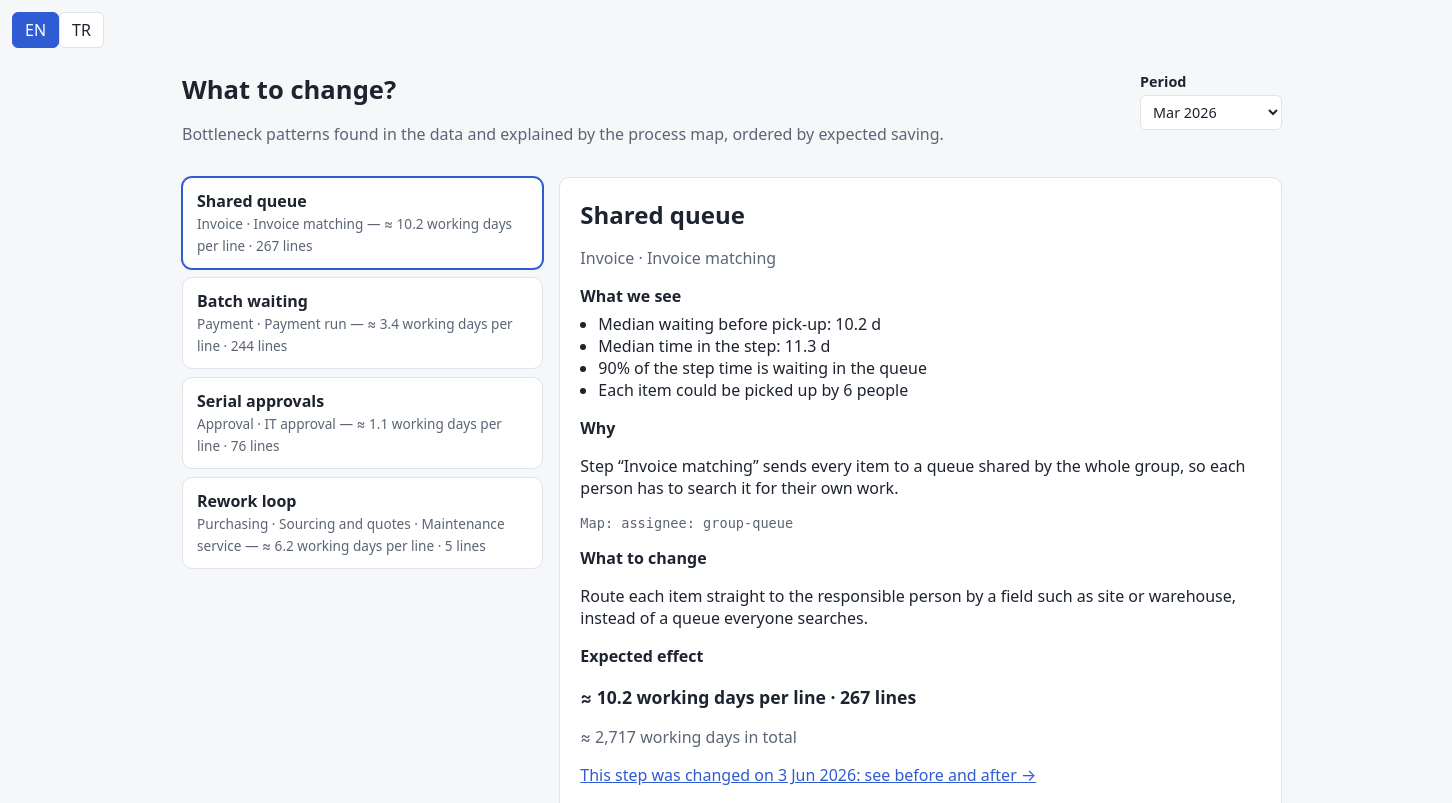
Test: ImprovementCards › switches to Turkish
This screenshot has width=1452, height=803.
Check: the heading "What we see" is shown, box [580,285,681,307]
Click the button "TR" at [82, 30], box [59,12,104,48]
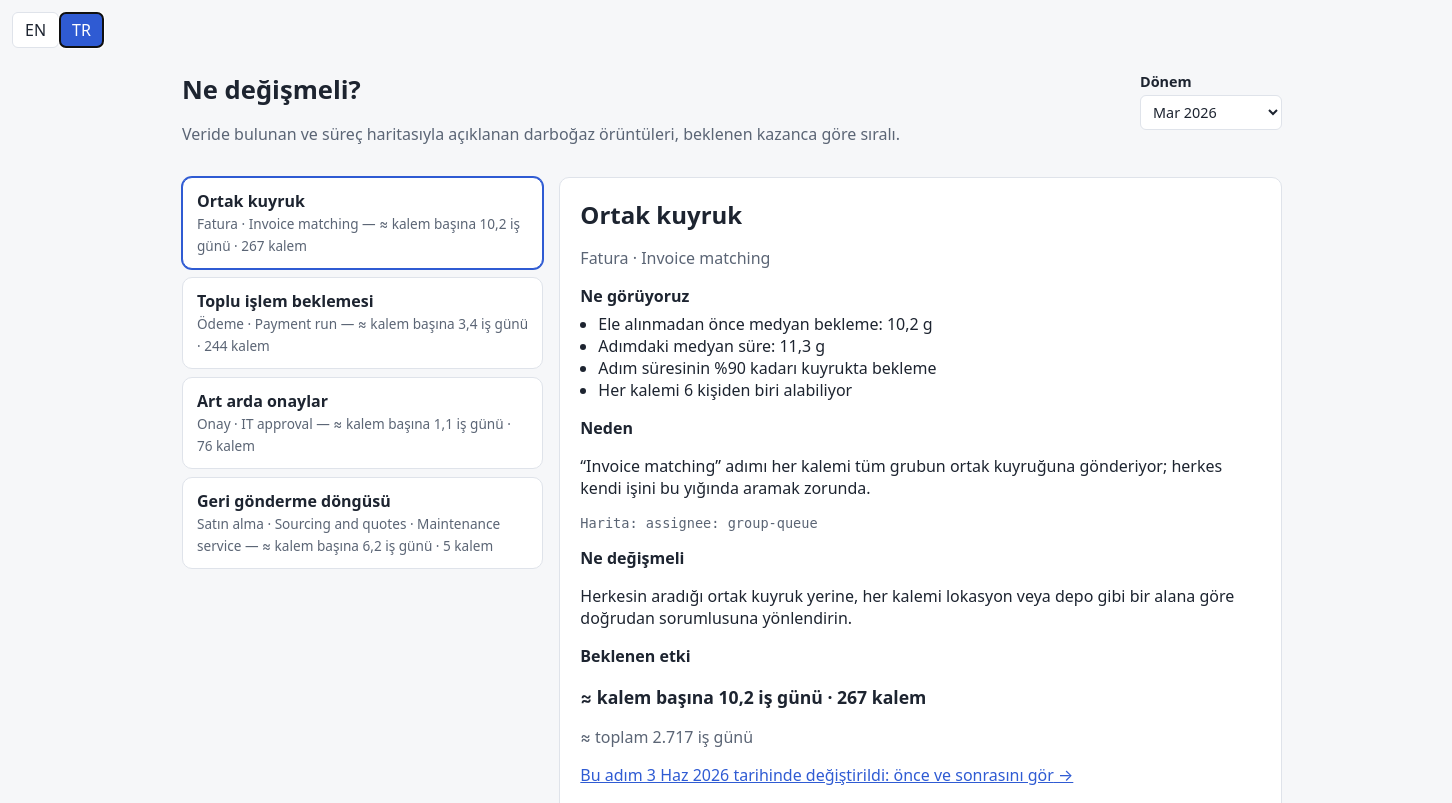
Check: the heading "Ne değişmeli" is shown, box [580,547,684,569]
Check: the text "Ortak kuyruk" is shown, box [197,190,305,212]
